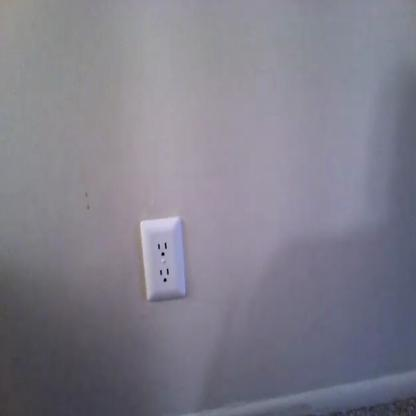OUTLET: (140, 219, 188, 300)
